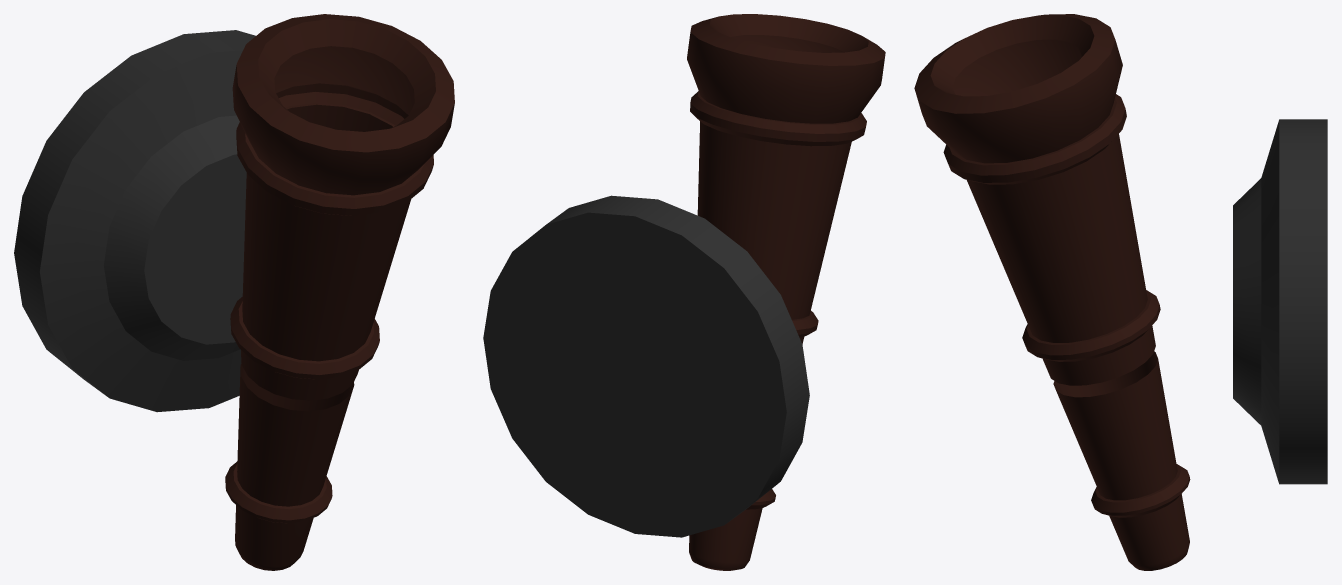
The model's file is myowntorch.fbx.
The picture shows the model from 3 angles, left to right: view 1: azimuth 30°, elevation 25°; view 2: azimuth 150°, elevation 25°; view 3: azimuth 270°, elevation 25°; orthographic projection. The views are drawn at different scales.
Visible parts, largest first — view 1: polySurface23, polySurface24; view 2: polySurface24, polySurface23; view 3: polySurface23, polySurface24.
Part boxes in pixels (x1=…): polySurface23: x1=225, y1=14, x2=454, y2=570; polySurface24: x1=14, y1=30, x2=255, y2=412; polySurface24: x1=483, y1=195, x2=809, y2=537; polySurface23: x1=687, y1=14, x2=885, y2=570; polySurface23: x1=914, y1=14, x2=1190, y2=570; polySurface24: x1=1233, y1=119, x2=1327, y2=484.
Size of the model in its own units: 0.236 by 0.3747 by 0.2652.
